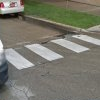crosswalk: (4, 34, 99, 71)
